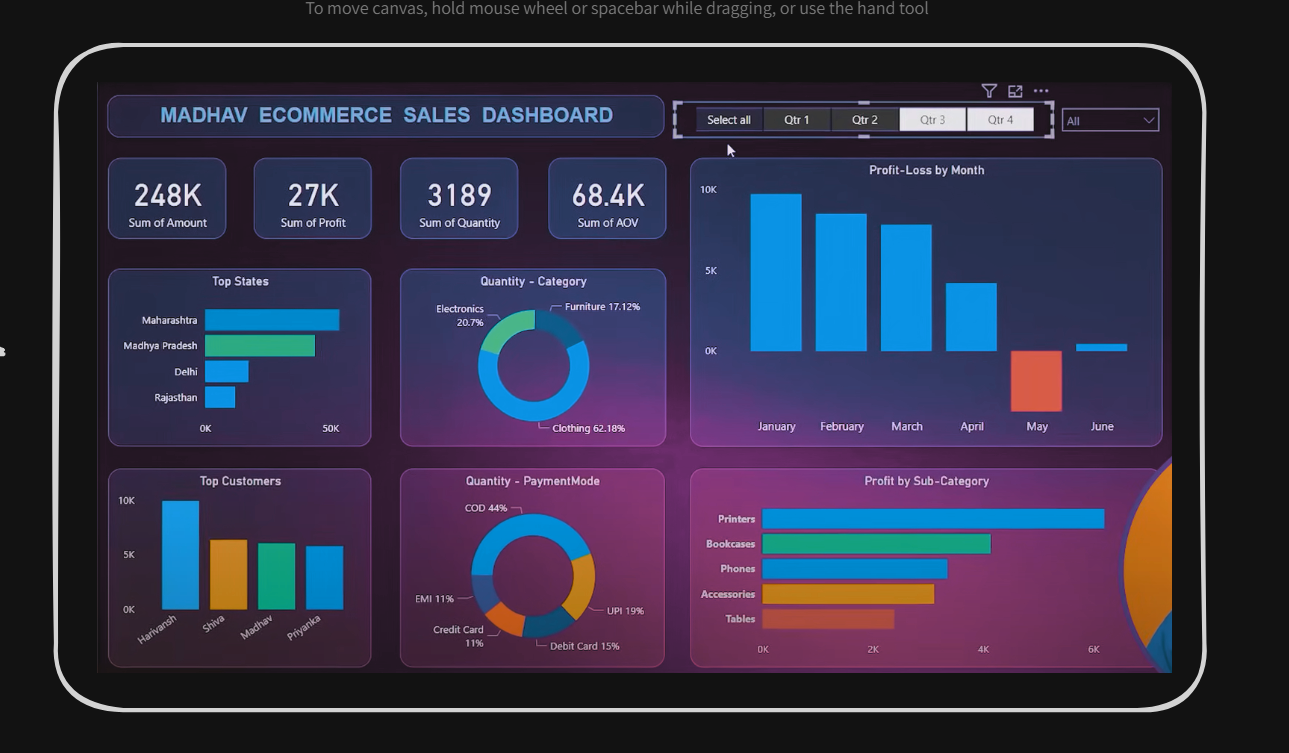

The dashboard page shown, as its layout file describes it:
{"tool":"powerbi","page":{"name":"Page 1","canvas":[1280,720],"ordinal":0},"visuals":[{"type":"columnChart","title":"Profit -Loss by Month","fields":{"Y":["Sum(Details.Profit)"],"Category":["Orders.Order Date.Variation.Date Hierarchy.Month"]},"box":[769.8,137.2,510.5,301.9],"z":0},{"type":"clusteredBarChart","title":"Profit by Sub-Category","fields":{"Y":["Sum(Details.Profit)"],"Category":["Details.Sub-Category"]},"box":[769.8,443.2,510.5,277.2],"z":1000},{"type":"donutChart","title":"Quantity by Category","fields":{"Y":["Sum(Details.Quantity)"],"Category":["Details.Category"]},"box":[388.3,238.8,356.8,241.5],"z":2000},{"type":"donutChart","title":"Quantity by PaymentMode","fields":{"Y":["Sum(Details.Quantity)"],"Category":["Details.PaymentMode"]},"box":[388.3,487.1,362.3,233.3],"z":3000},{"type":"clusteredBarChart","fields":{"Category":["Orders.State"],"Y":["Sum(Details.Amount)"]},"box":[26.1,238.8,338.9,241.5],"z":4000},{"type":"columnChart","fields":{"Category":["Orders.CustomerName"],"Y":["Sum(Details.Amount)"]},"box":[20.6,487.1,349.9,233.3],"z":5000},{"type":"card","fields":{"Values":["Sum(Details.Amount)"]},"box":[26.1,126.2,170.2,102.9],"z":6000},{"type":"card","fields":{"Values":["Sum(Details.Profit)"]},"box":[208.6,126.2,170.2,102.9],"z":7000},{"type":"card","fields":{"Values":["Sum(Details.Quantity)"]},"box":[388.3,127.6,170.2,102.9],"z":8000},{"type":"card","fields":{"Values":["Sum(Details.AOV)"]},"box":[575,127.6,170.2,102.9],"z":9000},{"type":"textbox","box":[26.1,19.2,682,81],"z":10000},{"type":"slicer","fields":{"Values":["Orders.Order Date.Variation.Date Hierarchy.Quarter"]},"box":[717.7,19.2,410.3,81],"z":11000}]}

Visuals, with their boxes on the page's 1280x720 design canvas (x1, y1, x2, y2). These are canvas units, not pixel positions in the 1289x753 screenshot, which may show the page scaled, cropped or inside an application window:
"Profit -Loss by Month" columnChart: 770, 137, 1280, 439
"Profit by Sub-Category" clusteredBarChart: 770, 443, 1280, 720
"Quantity by Category" donutChart: 388, 239, 745, 480
"Quantity by PaymentMode" donutChart: 388, 487, 751, 720
clusteredBarChart - Orders.State x Sum(Details.Amount): 26, 239, 365, 480
columnChart - Orders.CustomerName x Sum(Details.Amount): 21, 487, 370, 720
card - Sum(Details.Amount): 26, 126, 196, 229
card - Sum(Details.Profit): 209, 126, 379, 229
card - Sum(Details.Quantity): 388, 128, 558, 230
card - Sum(Details.AOV): 575, 128, 745, 230
textbox: 26, 19, 708, 100
slicer - Orders.Order Date.Variation.Date Hierarchy.Quarter: 718, 19, 1128, 100
